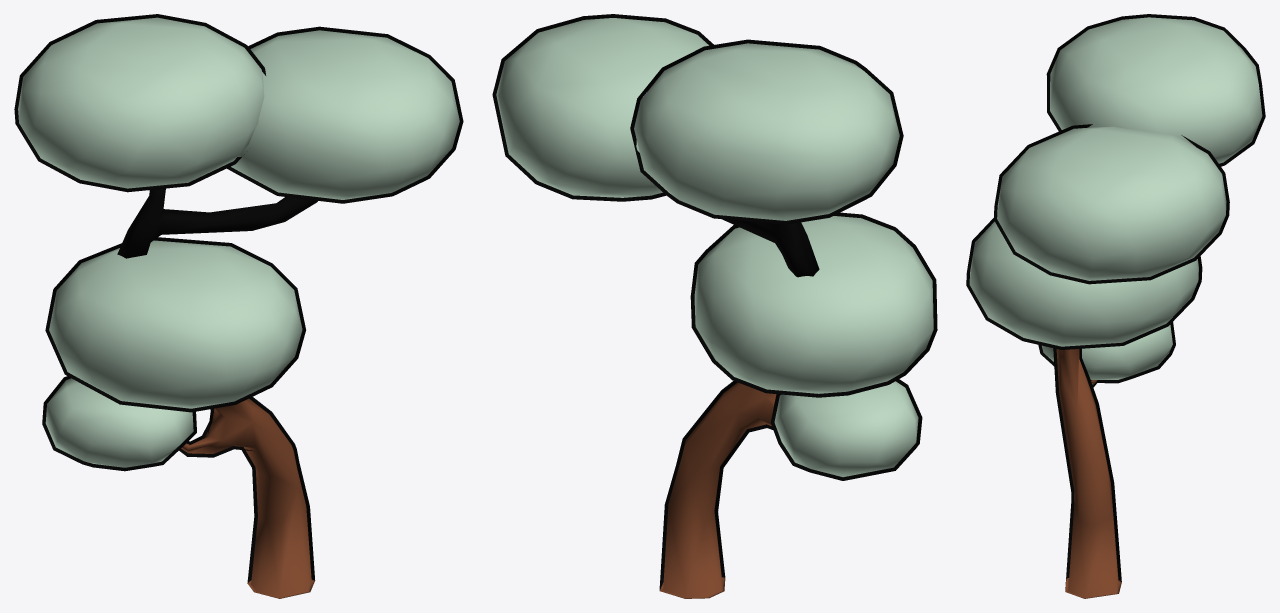
The model's file is ToonBonazai.fbx.
3 renders of one model, left to right at view 1: azimuth 30°, elevation 25°; view 2: azimuth 150°, elevation 25°; view 3: azimuth 270°, elevation 25°, orthographic. The views are drawn at different scales.
Visible parts, largest first — view 1: tree_08; view 2: tree_08; view 3: tree_08.
Boxes of the visible parts, x1,y1,x2,y2 form: tree_08: (14,14,463,598); tree_08: (492,14,937,598); tree_08: (966,14,1265,598).
Bounding box in the file's own units: 368 × 485 × 264.
